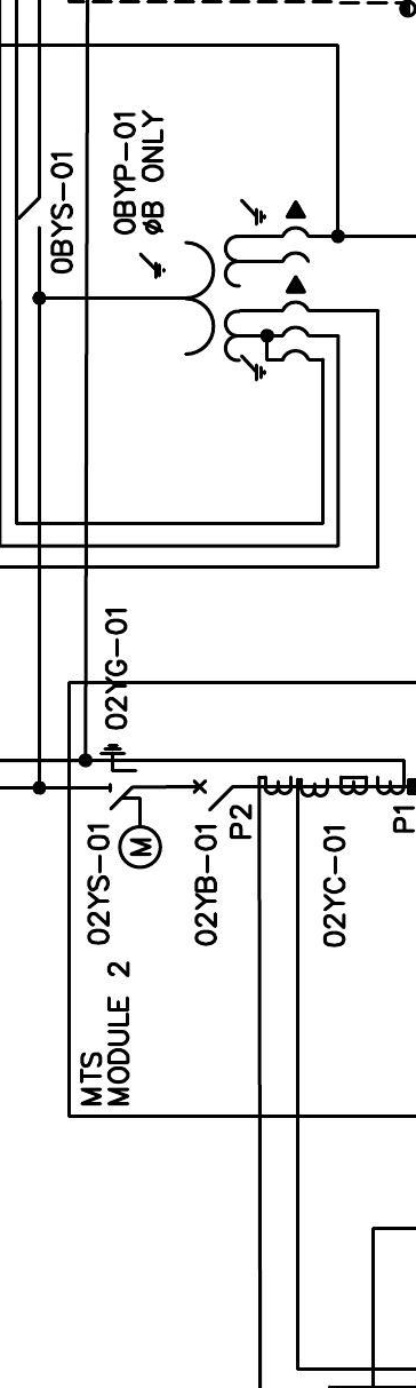115_3ways_ds_w_motor: (98, 742, 163, 871)
115_breaker: (192, 779, 234, 813)
115_ds: (19, 197, 42, 231)
115_vt_1p: (138, 198, 311, 383)
